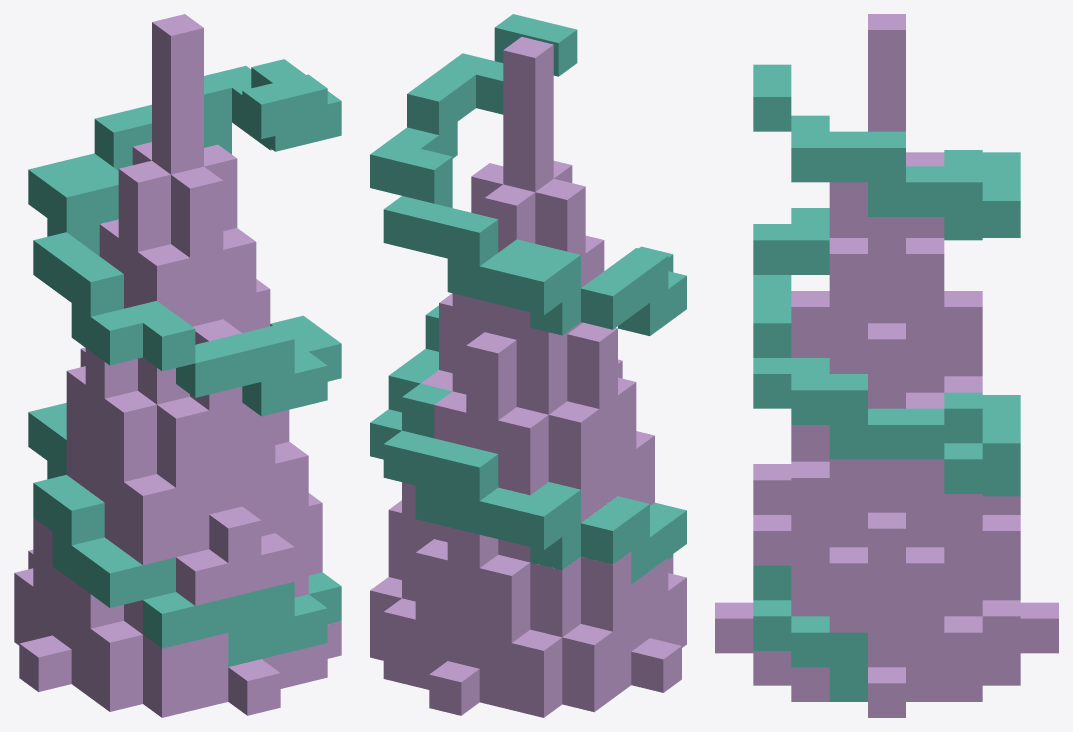
The model's file is alien-biosphere-mineral-symbiont-93744ab2__22824.glb.
3 renders of one model, left to right at view 1: azimuth 30°, elevation 25°; view 2: azimuth 150°, elevation 25°; view 3: azimuth 270°, elevation 25°, orthographic. The views are drawn at different scales.
Visible parts, largest first — view 1: mineral-symbiont; view 2: mineral-symbiont; view 3: mineral-symbiont.
Boxes of the visible parts, x1,y1,x2,y2 form: mineral-symbiont: (14, 14, 341, 717); mineral-symbiont: (370, 14, 686, 717); mineral-symbiont: (715, 14, 1058, 717).
Size of the model in its own units: 1.8 by 3.6 by 1.8.
